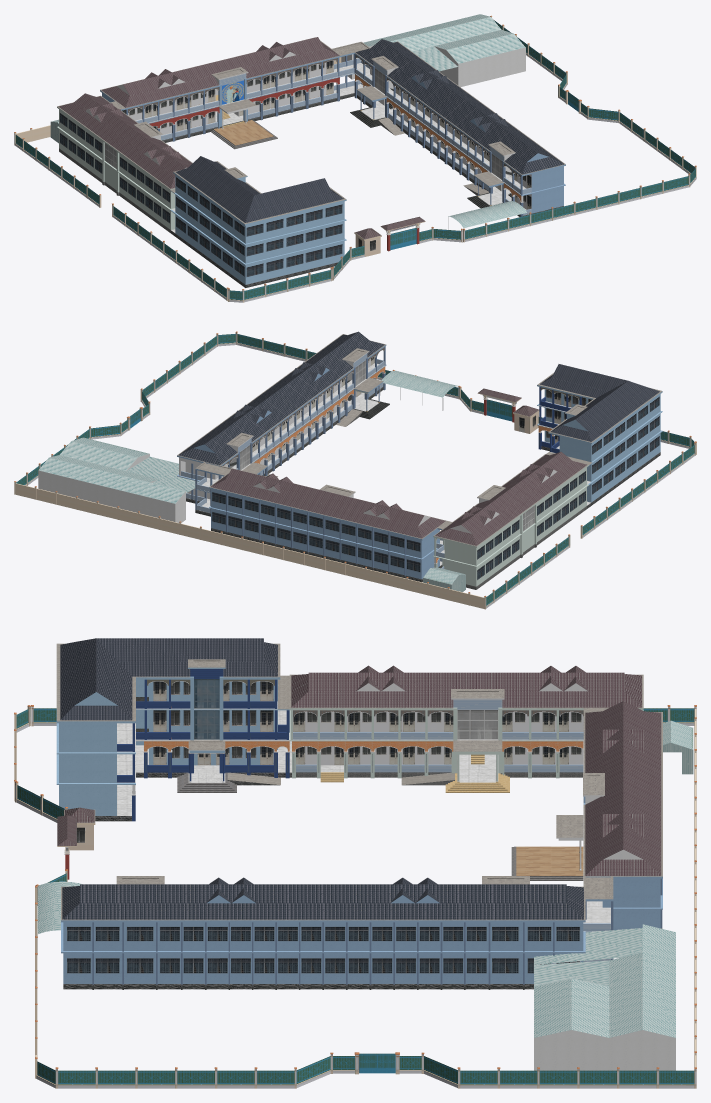
File: Truong Tieu Hoc Tan Phu C.glb
3 views of the same model, one above another, from view 1: azimuth 30°, elevation 25°; view 2: azimuth 150°, elevation 25°; view 3: azimuth 270°, elevation 25° (orthographic). The views are drawn at different scales.
Parts seen in each view (by area): view 1: BPH090_TruongTieuHocTanPhuC_nha_A, BPH090_TruongTieuHocTanPhuC_nha_B, BPH090_TruongTieuHocTanPhuC_nha_hangrao, BPH090_TruongTieuHocTanPhuC_nha_C; view 2: BPH090_TruongTieuHocTanPhuC_nha_A, BPH090_TruongTieuHocTanPhuC_nha_hangrao, BPH090_TruongTieuHocTanPhuC_nha_B, BPH090_TruongTieuHocTanPhuC_nha_C; view 3: BPH090_TruongTieuHocTanPhuC_nha_A, BPH090_TruongTieuHocTanPhuC_nha_B, BPH090_TruongTieuHocTanPhuC_nha_hangrao, BPH090_TruongTieuHocTanPhuC_nha_C.
Part boxes in pixels (x1=…): BPH090_TruongTieuHocTanPhuC_nha_A: x1=57, y1=37, x2=565, y2=233; BPH090_TruongTieuHocTanPhuC_nha_B: x1=170, y1=156, x2=346, y2=287; BPH090_TruongTieuHocTanPhuC_nha_hangrao: x1=14, y1=15, x2=696, y2=302; BPH090_TruongTieuHocTanPhuC_nha_C: x1=341, y1=14, x2=525, y2=87; BPH090_TruongTieuHocTanPhuC_nha_A: x1=177, y1=331, x2=588, y2=589; BPH090_TruongTieuHocTanPhuC_nha_hangrao: x1=14, y1=331, x2=696, y2=609; BPH090_TruongTieuHocTanPhuC_nha_B: x1=537, y1=364, x2=662, y2=508; BPH090_TruongTieuHocTanPhuC_nha_C: x1=38, y1=437, x2=198, y2=522; BPH090_TruongTieuHocTanPhuC_nha_A: x1=61, y1=665, x2=662, y2=989; BPH090_TruongTieuHocTanPhuC_nha_B: x1=56, y1=638, x2=291, y2=821; BPH090_TruongTieuHocTanPhuC_nha_hangrao: x1=14, y1=705, x2=696, y2=1088; BPH090_TruongTieuHocTanPhuC_nha_C: x1=534, y1=924, x2=675, y2=1070.
Size of the model in its own units: 112 by 17.68 by 88.65.
4 materials, 4 textured.
